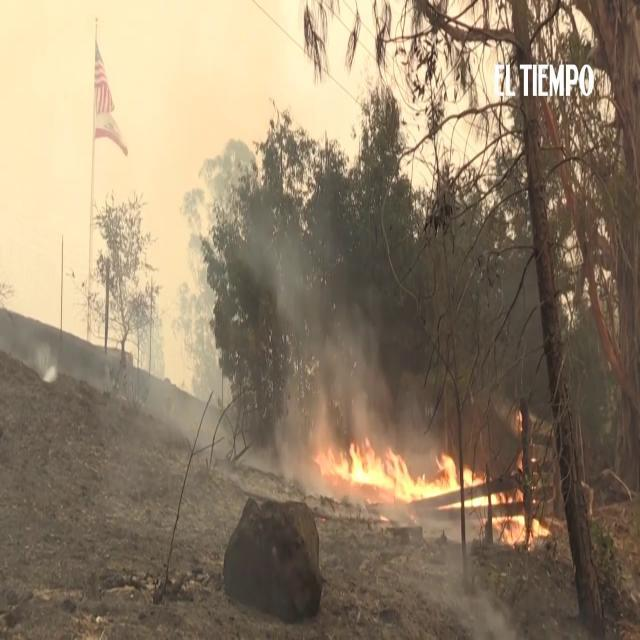Fire: (319, 439, 501, 504), (496, 516, 546, 542), (514, 410, 524, 432)
